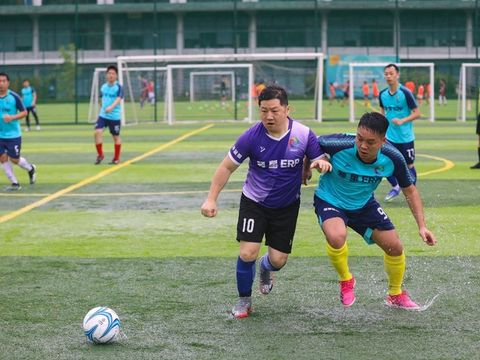football: (83, 306, 123, 346)
